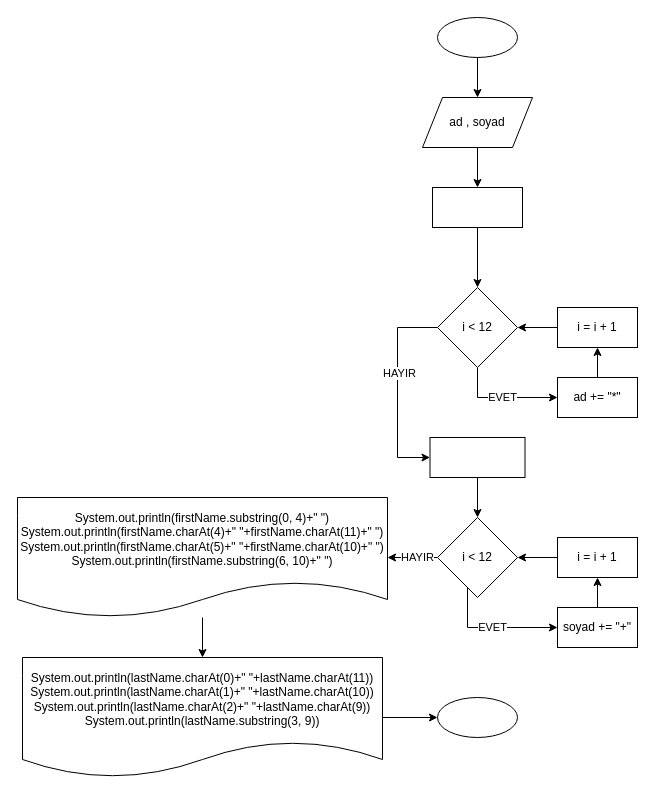
The diagram is 655 pixels wide and 795 high, and some of its shapes have lost their labels. The shapes that lost their labels are listed below. From the top down, each one's centre as x and y in pixels, then its label:
the point at 477,37: BAŞLA
the point at 477,207: i = ad.length()
the point at 477,457: i = soyad.length()
the point at 477,717: DUR
